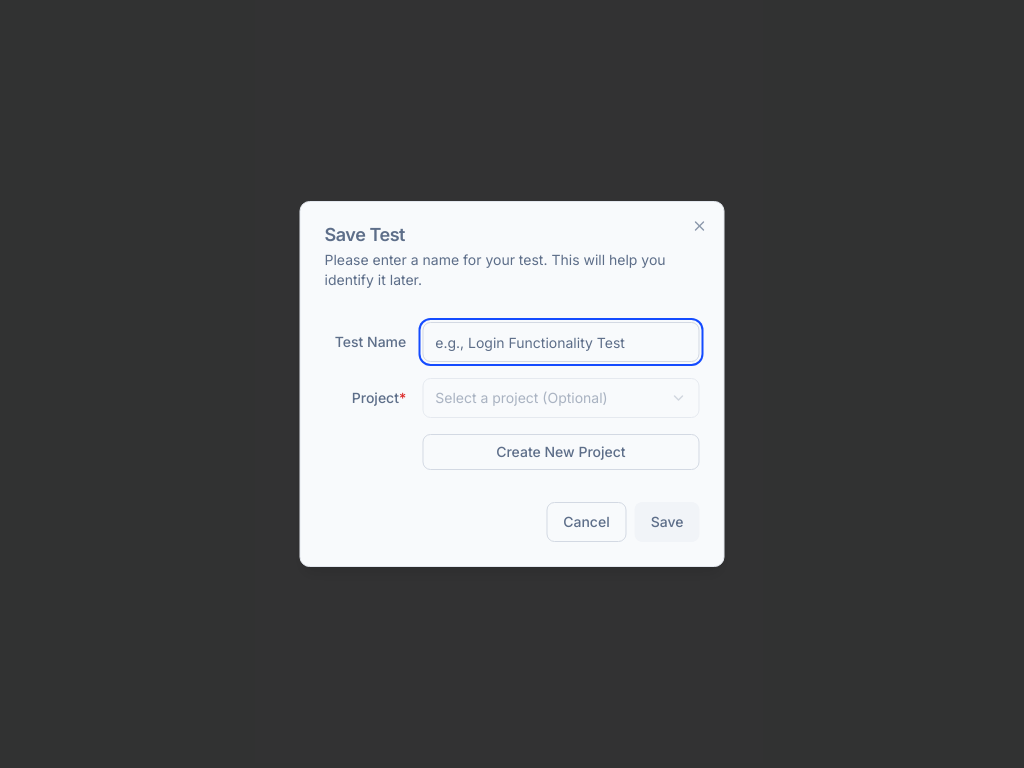
Test case: SaveTestModal › Create New Project functionality › creates a project, selects it, and closes the nested dialog
Step 1. Click the button "Create New Project" → [561, 452], box [422, 434, 700, 470]
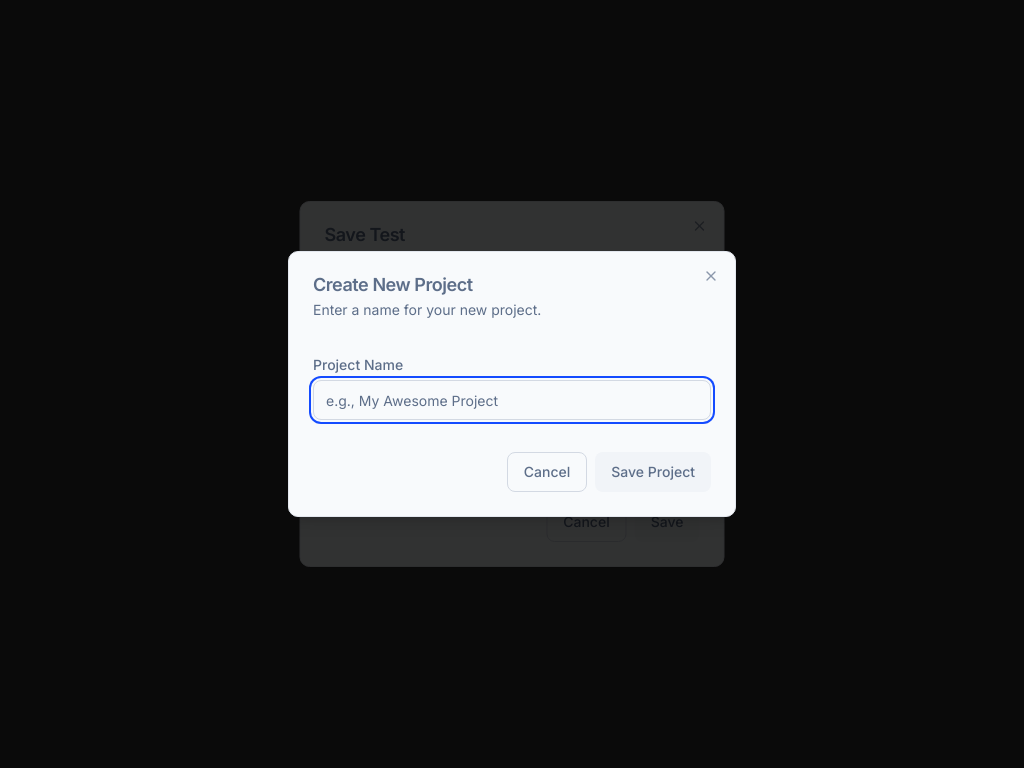
Step 2. Type "Project Gamma" into the field labelled "Project Name" → [512, 400], box [313, 380, 711, 420]
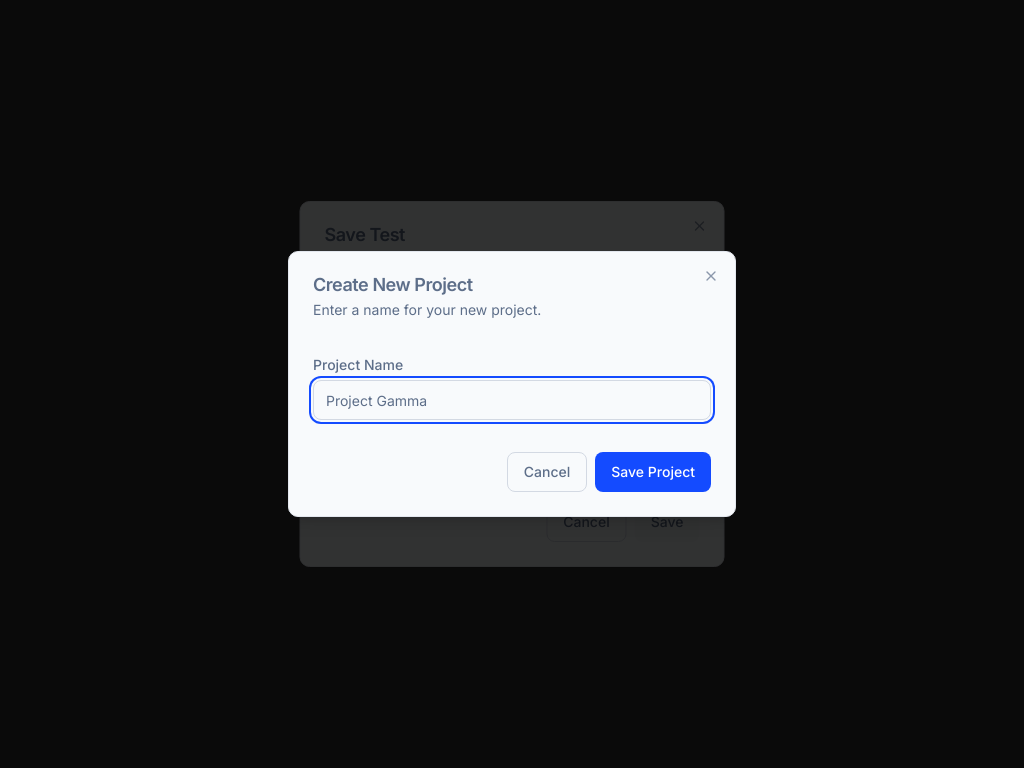
Step 3. Click the button "Save Project" → [653, 472], box [595, 452, 711, 492]
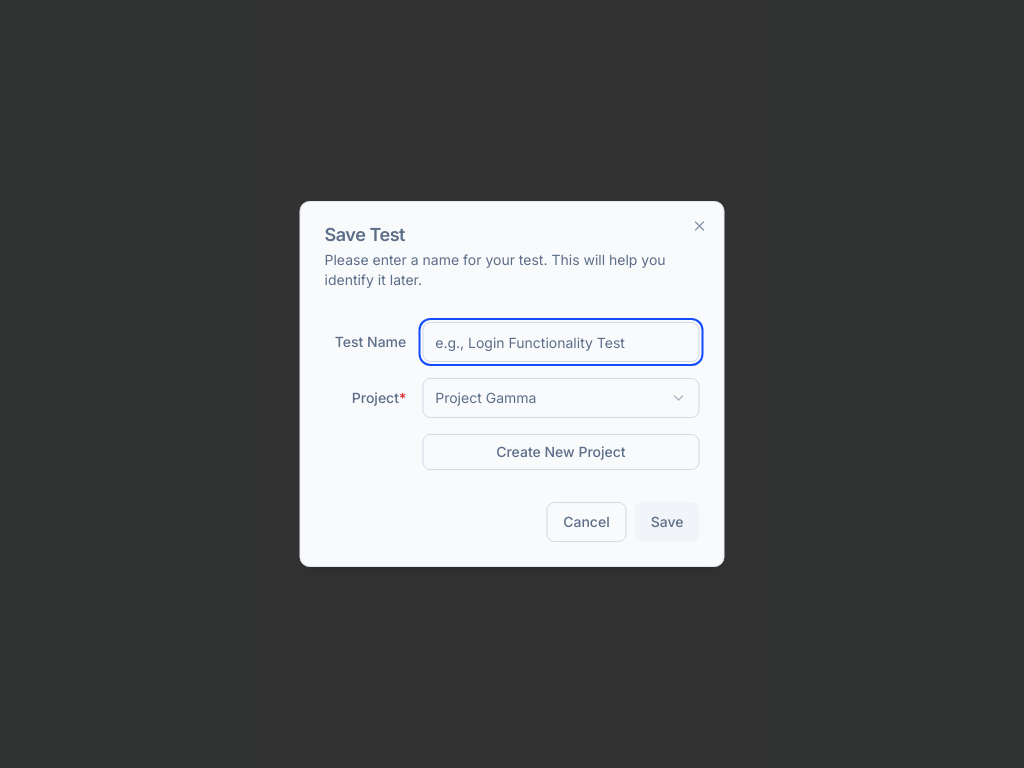
Check: the text "Project Gamma" is shown, box [435, 388, 536, 408]
